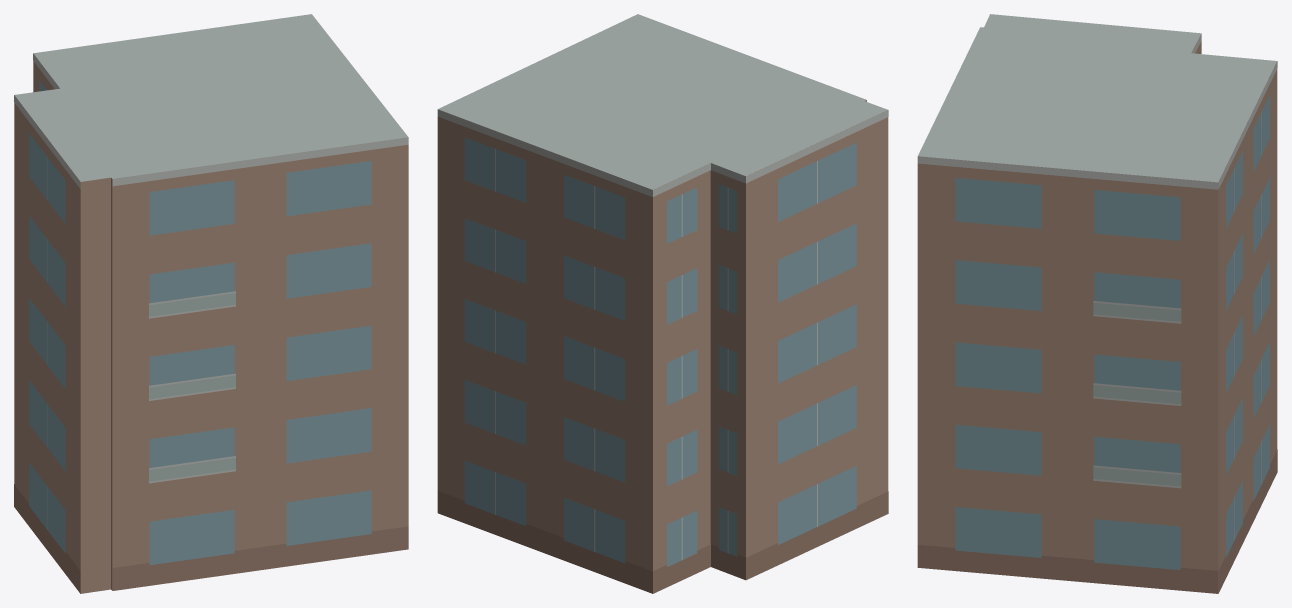
Rendered from survey-upis-32652863.glb.
3 views of the same model, side by side, from view 1: azimuth 30°, elevation 25°; view 2: azimuth 150°, elevation 25°; view 3: azimuth 270°, elevation 25° (orthographic).
Visible parts, largest first — view 1: survey-upis-32652863.tmp; view 2: survey-upis-32652863.tmp; view 3: survey-upis-32652863.tmp.
Boxes of the visible parts, box(x1,y1,x2,y2) form: survey-upis-32652863.tmp: box(14, 14, 408, 593); survey-upis-32652863.tmp: box(437, 14, 888, 593); survey-upis-32652863.tmp: box(917, 14, 1277, 593).
Size of the model in its own units: 12.03 by 13.7 by 10.86.
